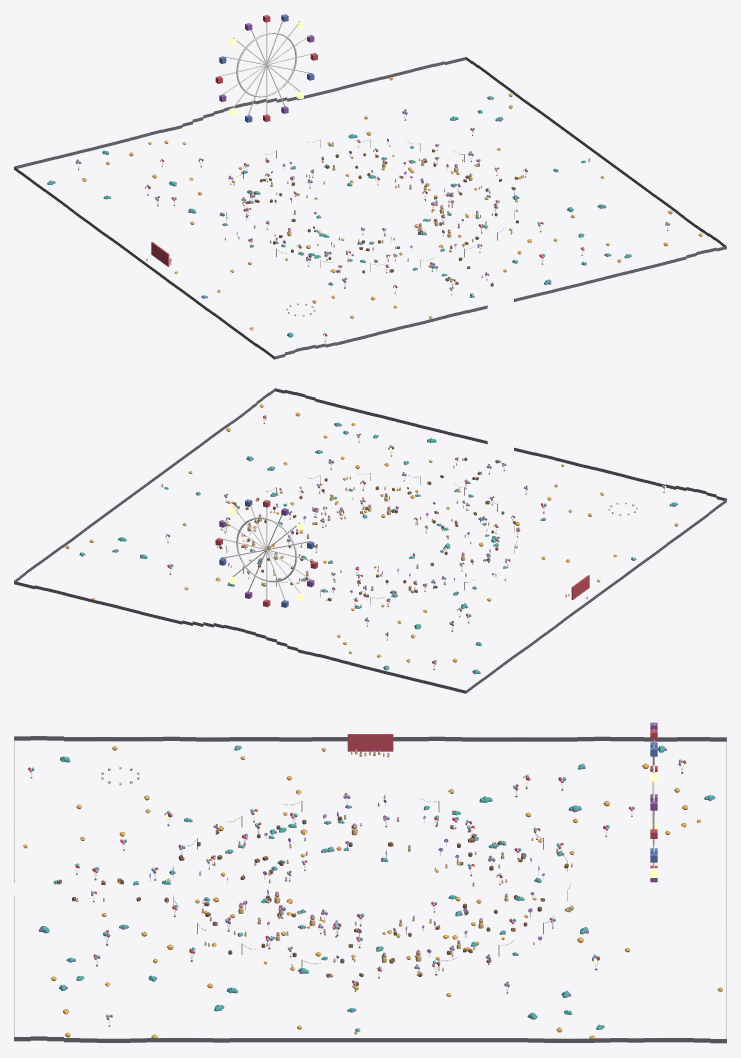
The model's file is CursedCandyCarnival_Decoration.fbx.
3 renders of one model, top to bottom at view 1: azimuth 30°, elevation 25°; view 2: azimuth 150°, elevation 25°; view 3: azimuth 270°, elevation 25°, orthographic. The views are drawn at different scales.
Parts seen in each view (by area): view 1: no part large enough to name; view 2: no part large enough to name; view 3: CUR_PuppetTheatre_Curtain.
Part boxes in pixels (x1,y1,x2,y2): CUR_PuppetTheatre_Curtain: (347,734,393,751).
Bounding box in the file's own units: 342 × 87.72 × 342.
